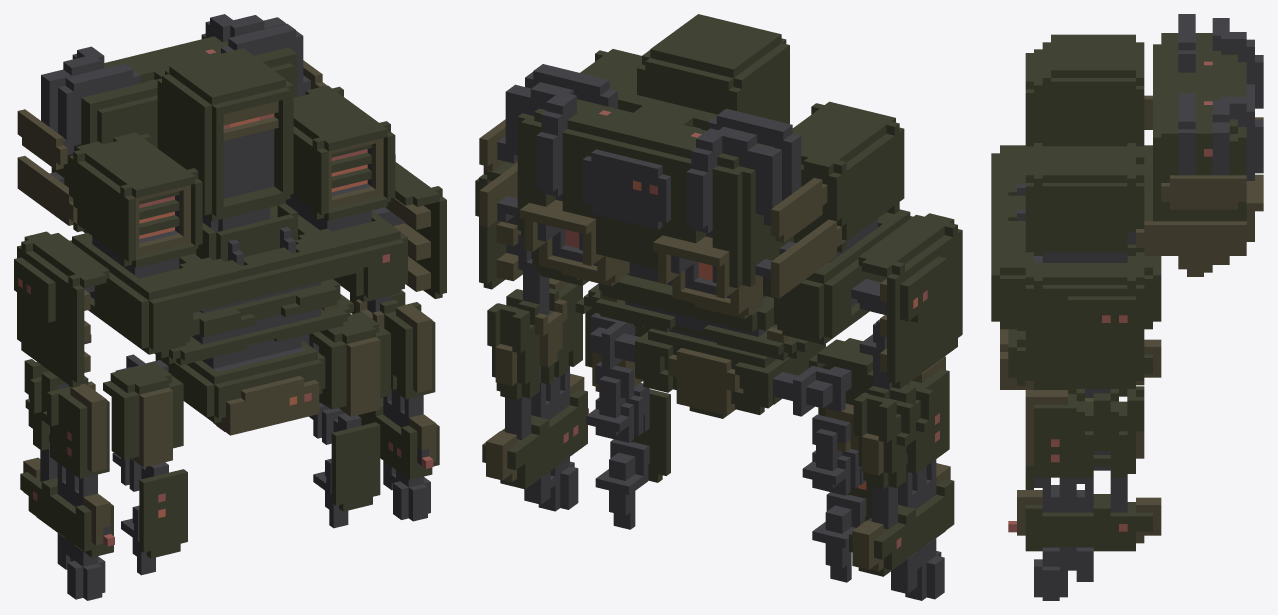
The model's file is MechaTrooper.glb.
3 renders of one model, left to right at view 1: azimuth 30°, elevation 25°; view 2: azimuth 150°, elevation 25°; view 3: azimuth 270°, elevation 25°, orthographic. The views are drawn at different scales.
Parts seen in each view (by area): view 1: Node; view 2: Node; view 3: Node.
Part boxes in pixels (left/top/right/bottom): Node: left=14, top=14, right=446, bottom=600; Node: left=475, top=14, right=962, bottom=600; Node: left=991, top=14, right=1263, bottom=600.
Bounding box in the file's own units: 5.2 × 6 × 3.2.
1 material, 1 textured.
